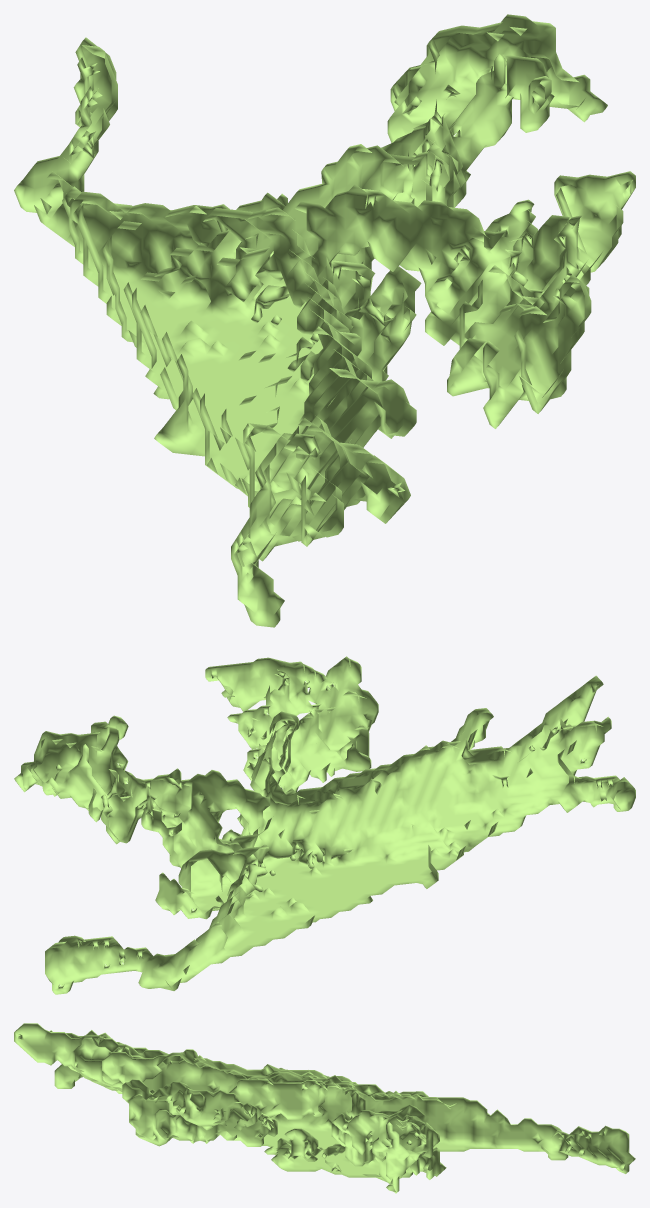
The model's file is osteocyte_24.glb.
3 renders of one model, top to bottom at view 1: azimuth 30°, elevation 25°; view 2: azimuth 150°, elevation 25°; view 3: azimuth 270°, elevation 25°, orthographic. The views are drawn at different scales.
Parts seen in each view (by area): view 1: osteocyte_24; view 2: osteocyte_24; view 3: osteocyte_24.
Part boxes in pixels (bbox=[...]): osteocyte_24: bbox=[14, 14, 635, 627]; osteocyte_24: bbox=[14, 656, 635, 994]; osteocyte_24: bbox=[14, 1023, 635, 1193].
Size of the model in its own units: 26.38 by 8.05 by 41.13.
